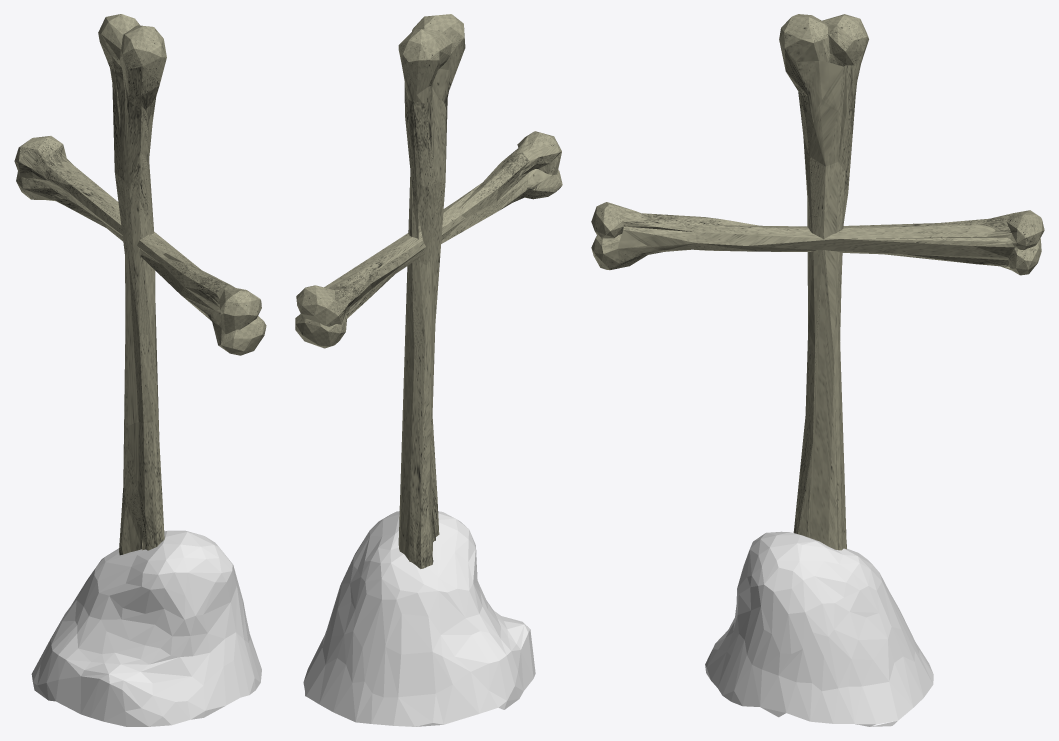
File: boneThing.fbx
3 renders of one model, left to right at view 1: azimuth 30°, elevation 25°; view 2: azimuth 150°, elevation 25°; view 3: azimuth 270°, elevation 25°, orthographic.
Parts seen in each view (by area): view 1: Cone, Cylinder.012, Cylinder.001; view 2: Cone, Cylinder.012, Cylinder.001; view 3: Cone, Cylinder.012, Cylinder.001.
Boxes of the visible parts, left/top/right/bottom form: Cone: left=31, top=530, right=261, bottom=726; Cylinder.012: left=98, top=14, right=166, bottom=555; Cylinder.001: left=14, top=136, right=266, bottom=355; Cone: left=303, top=511, right=535, bottom=726; Cylinder.012: left=398, top=14, right=465, bottom=568; Cylinder.001: left=295, top=131, right=562, bottom=348; Cone: left=705, top=531, right=933, bottom=726; Cylinder.012: left=779, top=14, right=868, bottom=550; Cylinder.001: left=591, top=202, right=1044, bottom=275.
Bounding box in the file's own units: 10.04 × 32.55 × 20.07.
2 materials, 2 textured.
